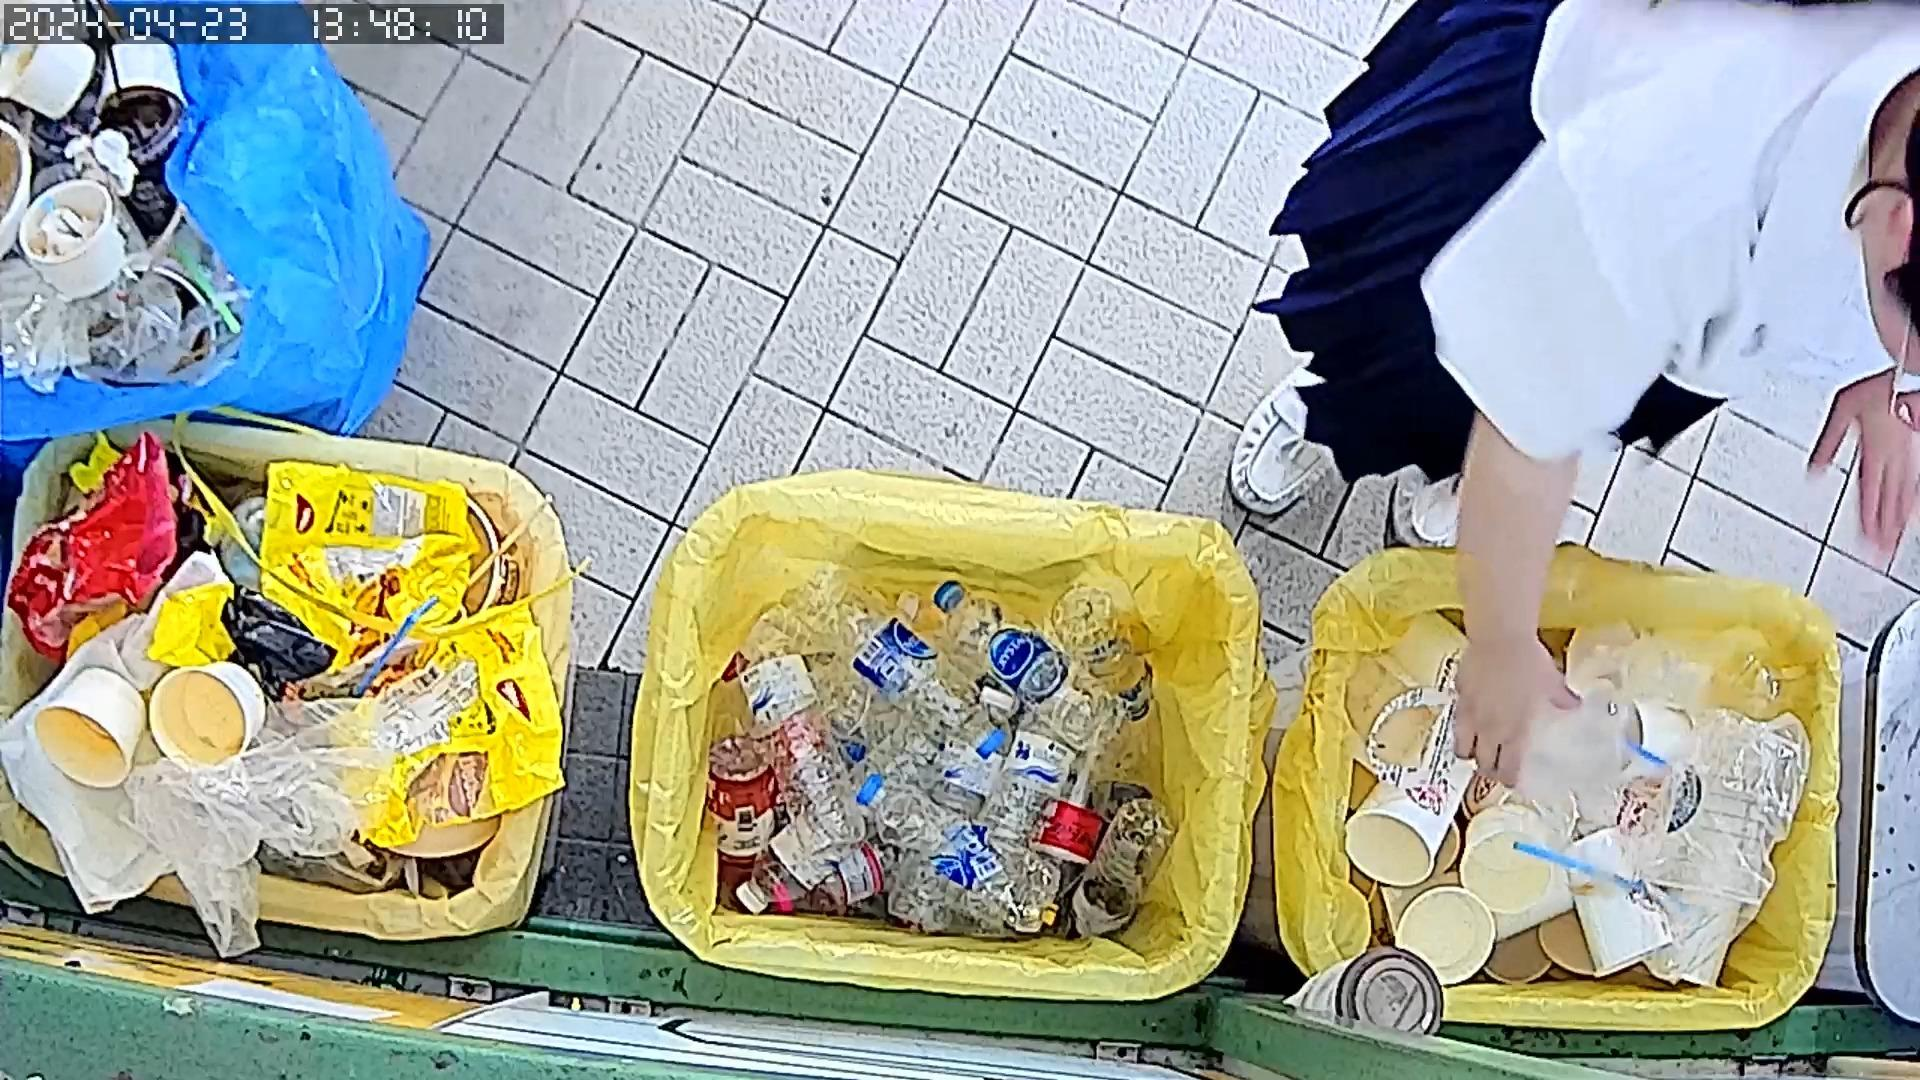can: (699, 737, 777, 873)
food container: (29, 661, 150, 790), (1460, 802, 1572, 936), (150, 657, 272, 779), (1373, 886, 1509, 990)
plastic bag: (127, 692, 402, 967), (1600, 712, 1812, 980)
plastic bottle: (733, 713, 948, 913), (795, 562, 1010, 758), (924, 574, 1127, 754), (876, 680, 1025, 922), (724, 625, 872, 864), (960, 682, 1096, 926), (855, 769, 1033, 936), (1014, 713, 1121, 936), (1047, 579, 1178, 727), (1067, 795, 1176, 955)
plastic cup: (1647, 720, 1800, 913), (1337, 626, 1456, 814), (1565, 793, 1650, 899)
snack packaging: (314, 593, 576, 852), (260, 454, 481, 650), (7, 421, 182, 666)
sticks: (467, 484, 568, 587)
straw: (1526, 827, 1722, 915)
zero waste cup: (1383, 595, 1547, 778), (1335, 708, 1482, 903), (1618, 852, 1763, 990), (1559, 823, 1687, 975), (1452, 744, 1577, 865)
